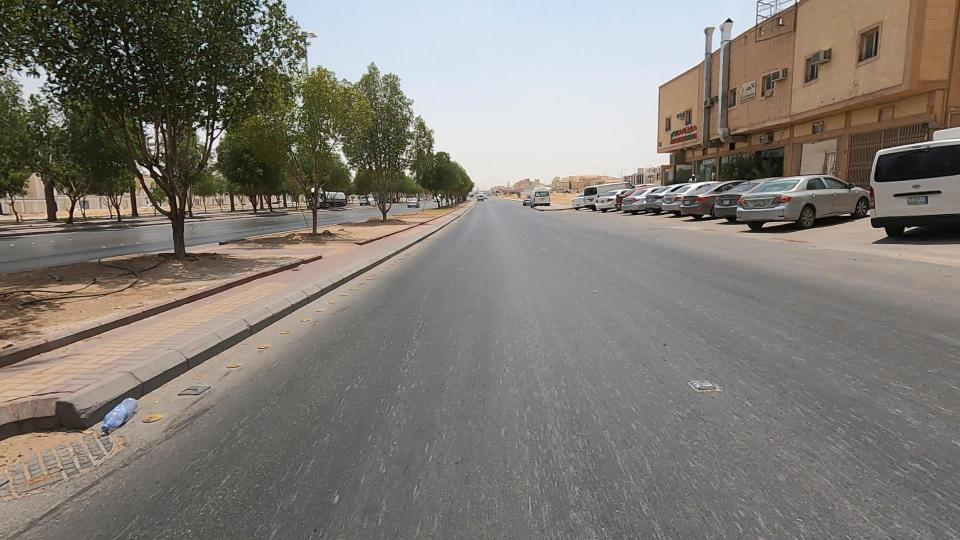GARBAGE: (18, 352, 230, 465)
